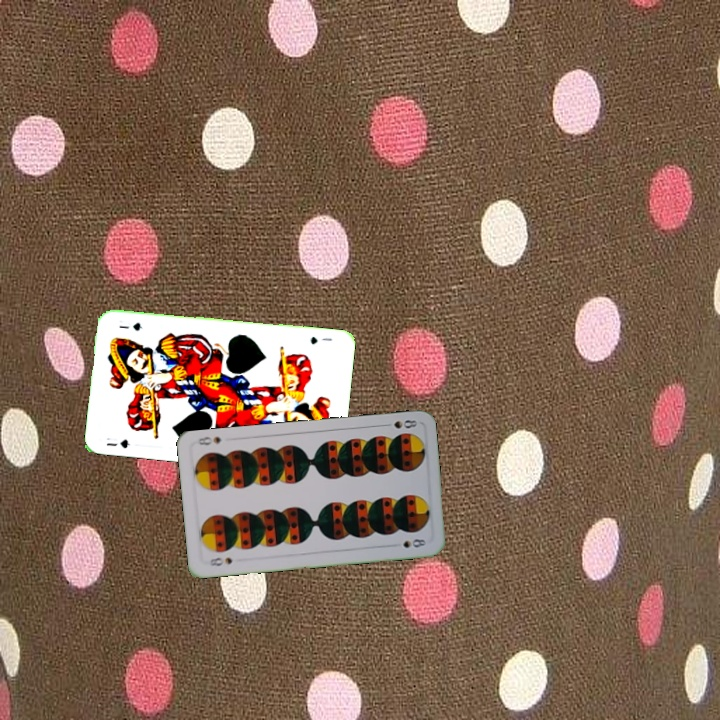GU: (102, 434, 133, 451), (306, 333, 334, 347)
S8: (379, 415, 420, 431), (204, 553, 235, 569)
